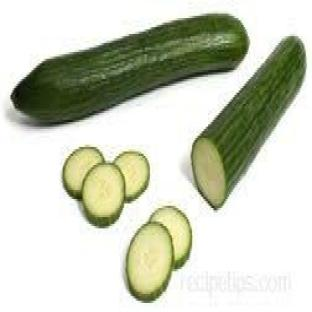Cucumber: (12, 14, 248, 124), (192, 37, 305, 207), (127, 222, 174, 300), (82, 163, 125, 226), (150, 206, 191, 269), (62, 147, 103, 198), (114, 152, 149, 201)
